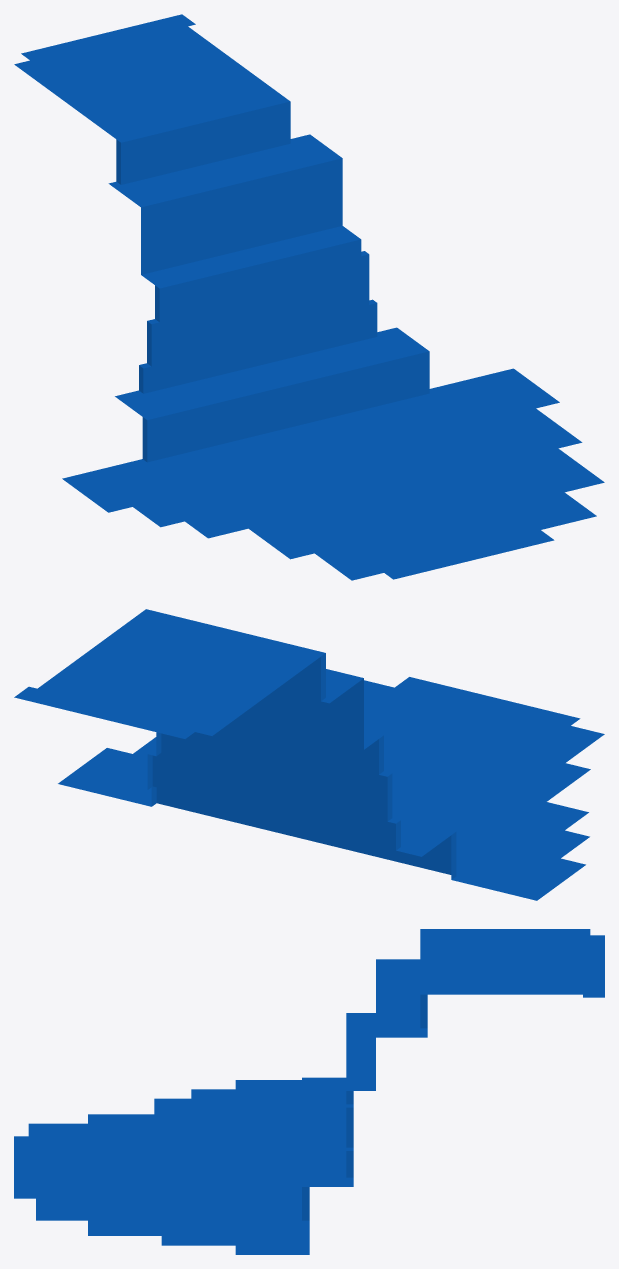
The model's file is testW.glb.
The picture shows the model from 3 angles, top to bottom: view 1: azimuth 30°, elevation 25°; view 2: azimuth 150°, elevation 25°; view 3: azimuth 270°, elevation 25°; orthographic projection. The views are drawn at different scales.
Visible parts, largest first — view 1: model_0.050; view 2: model_0.050; view 3: model_0.050.
Part boxes in pixels (x1,y1,x2,y2): model_0.050: (14, 14, 604, 580); model_0.050: (14, 609, 604, 900); model_0.050: (14, 929, 604, 1254).
Bounding box in the file's own units: 56 × 30 × 80.
Materials: 1 (1 with a texture image).
